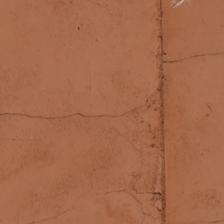Crack: (3, 142, 164, 224), (0, 82, 137, 142), (27, 0, 44, 145)
